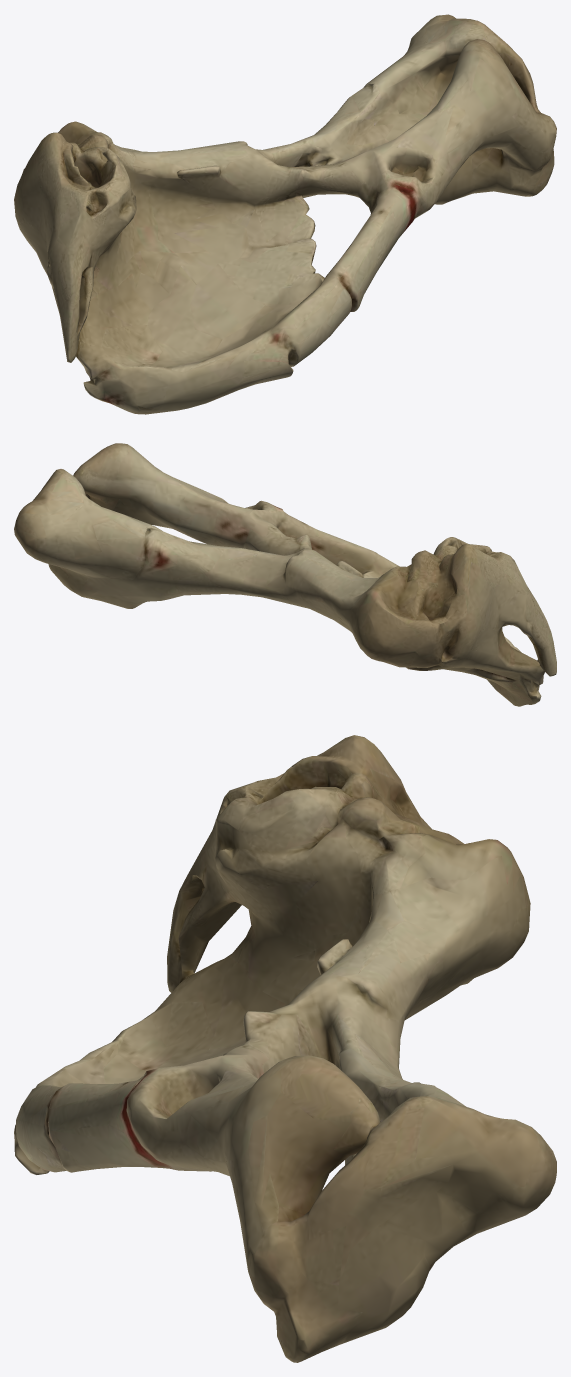
File: shoulder.glb
The picture shows the model from 3 angles, top to bottom: view 1: azimuth 30°, elevation 25°; view 2: azimuth 150°, elevation 25°; view 3: azimuth 270°, elevation 25°; orthographic projection. The views are drawn at different scales.
Parts seen in each view (by area): view 1: Mesh_0; view 2: Mesh_0; view 3: Mesh_0.
Boxes of the visible parts, x1,y1,x2,y2 form: Mesh_0: [14, 14, 556, 414]; Mesh_0: [14, 443, 556, 706]; Mesh_0: [14, 735, 556, 1362].
Bounding box in the file's own units: 1.9 × 0.8082 × 1.04.
Materials: 1 (1 with a texture image).
